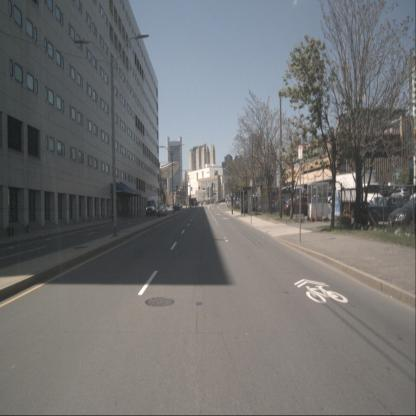movable_object-trafficcone: (348, 202, 351, 225), (315, 205, 318, 222), (346, 203, 348, 224), (310, 210, 313, 223)
vehicle-car: (358, 195, 414, 227), (388, 196, 416, 236), (282, 195, 313, 217), (278, 186, 304, 208), (390, 186, 410, 202), (270, 199, 289, 214), (242, 194, 259, 210), (258, 200, 276, 212), (156, 204, 167, 217), (380, 187, 393, 197), (189, 198, 198, 206), (174, 202, 180, 212), (179, 202, 183, 210)
vehicle-truck: (332, 168, 385, 214), (146, 196, 159, 217), (226, 194, 233, 203)
